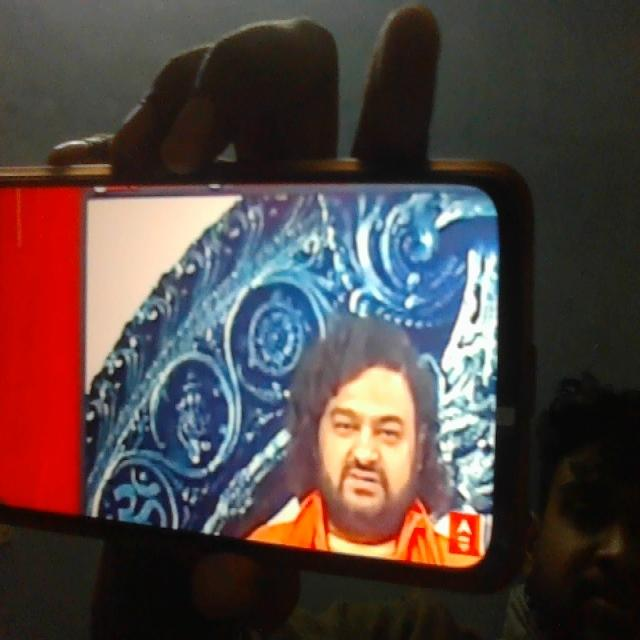fake: (311, 316, 428, 537)
